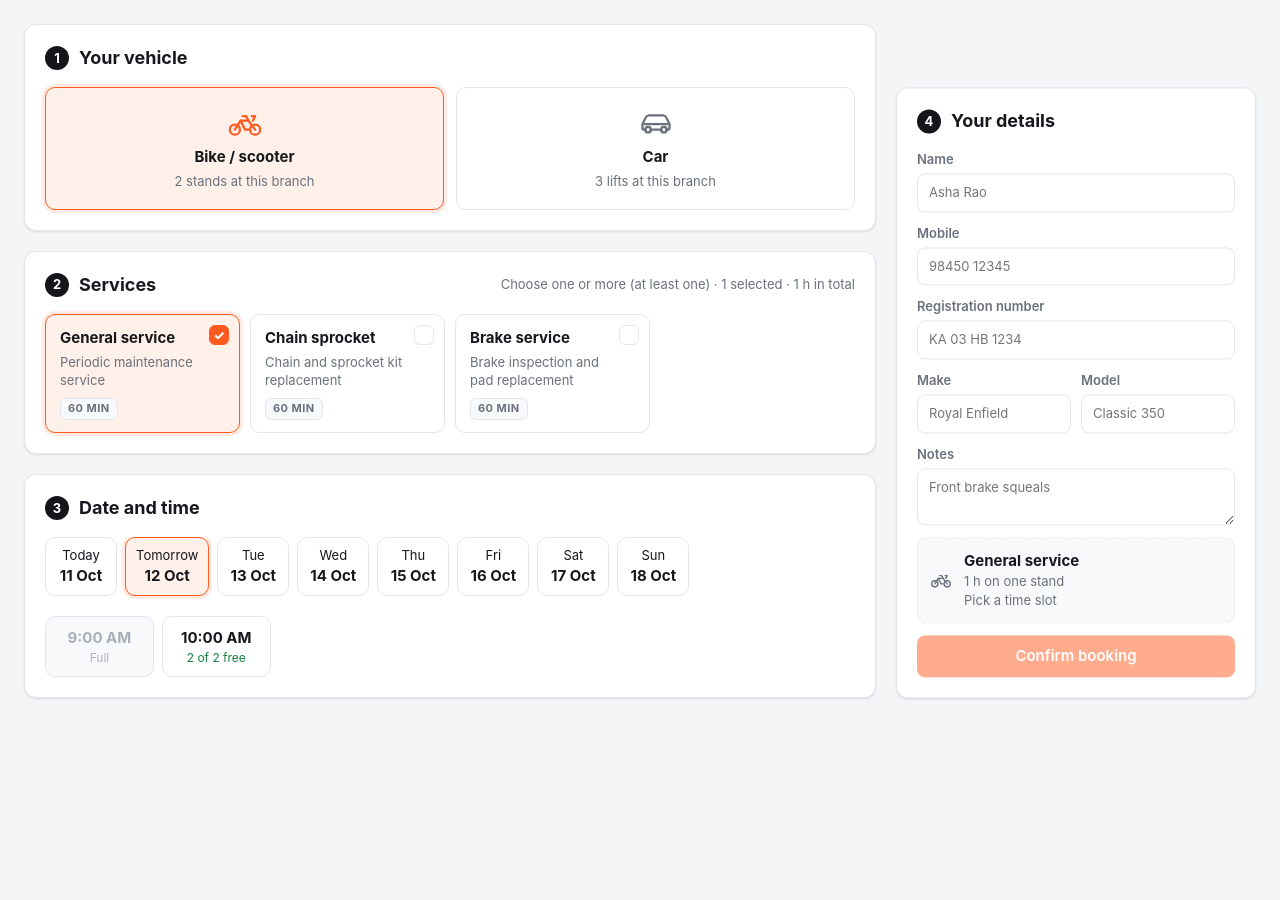
Scenario: BookPage › drops services that do not fit when switching vehicle
Click the checkbox labelled "Chain sprocket Chain and sprocket kit replacement 60 min" at (348, 374), box [250,314,445,433]
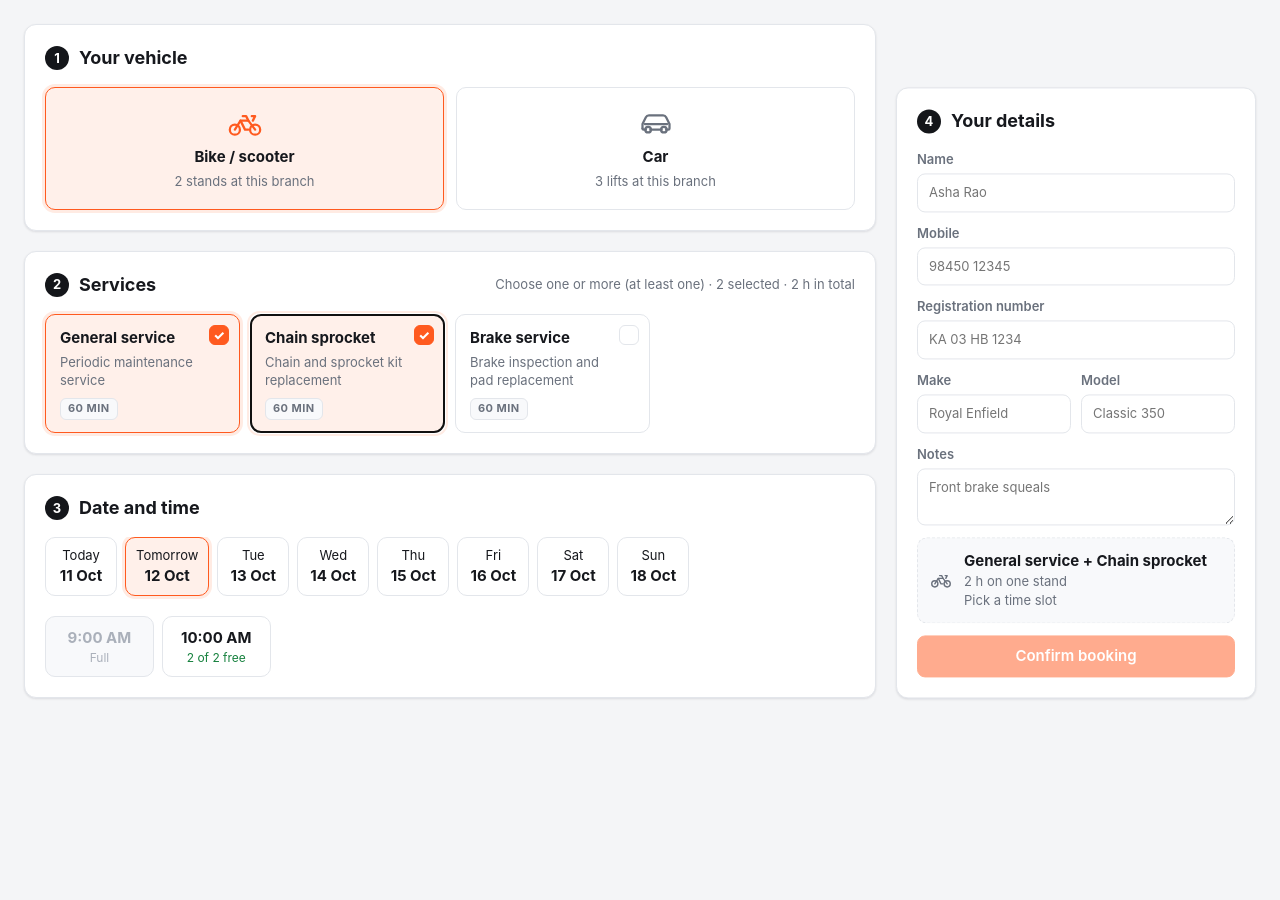
Click the button "Car 3 lifts at this branch" at (656, 148), box [456,87,855,210]
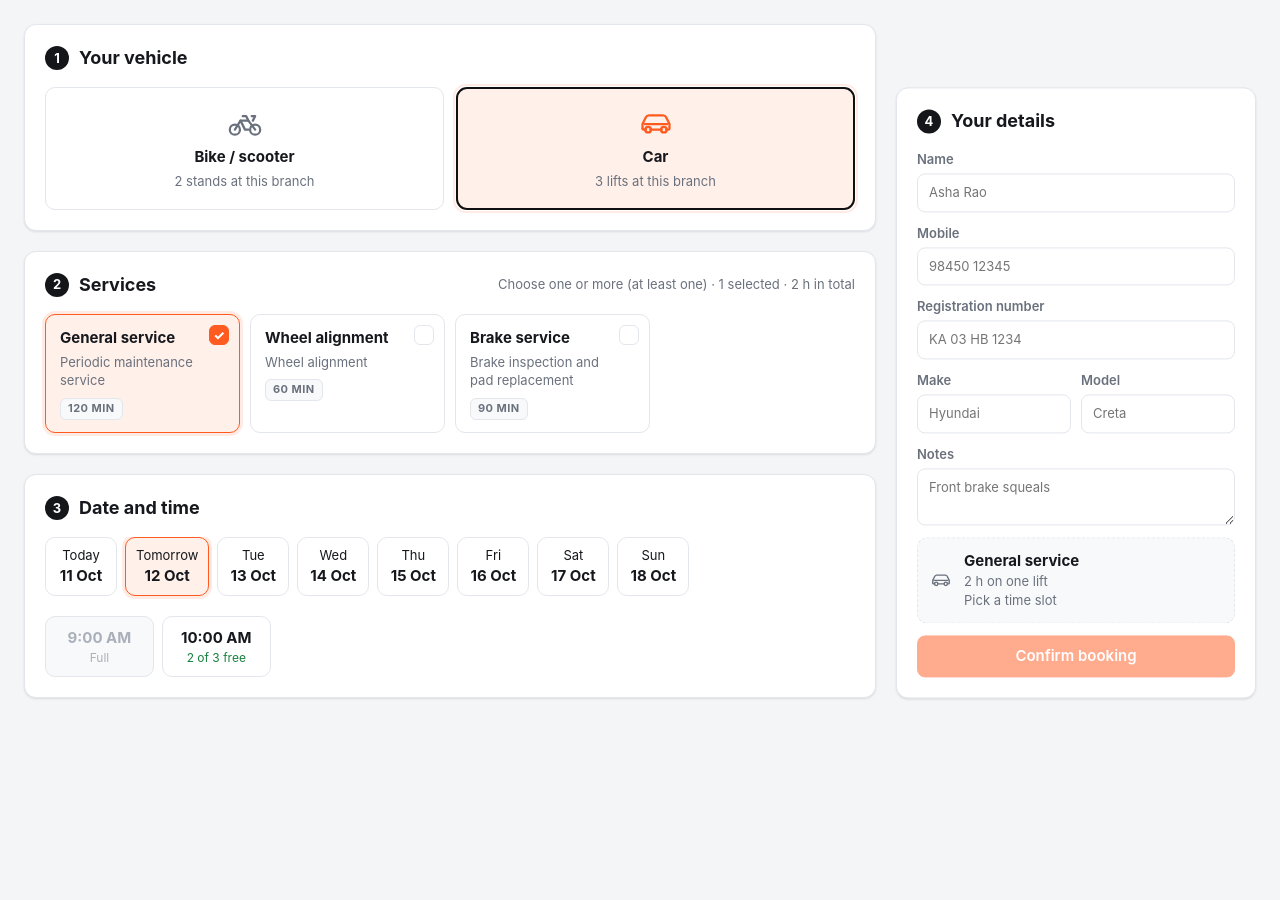
Expected: the text "1 selected" is shown, [498,275,855,294]
